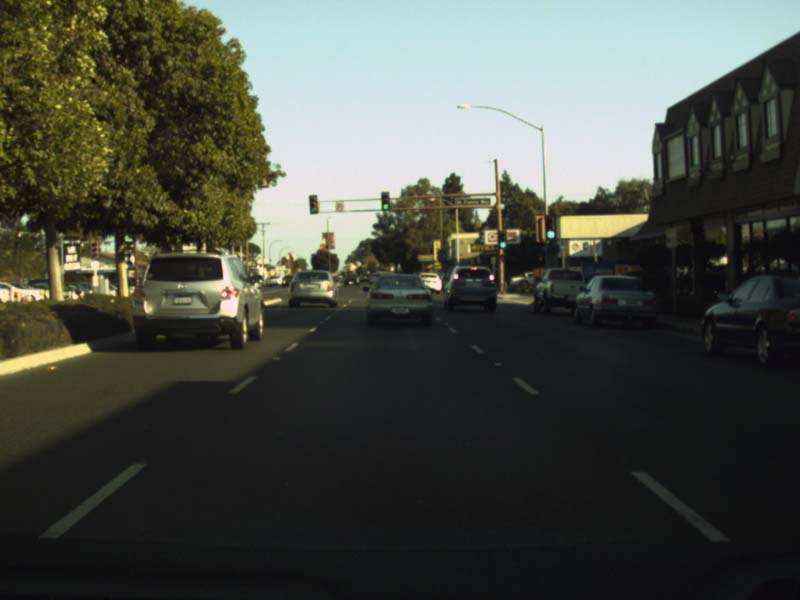Green: (545, 215, 555, 239), (380, 191, 389, 209), (497, 230, 506, 247)
